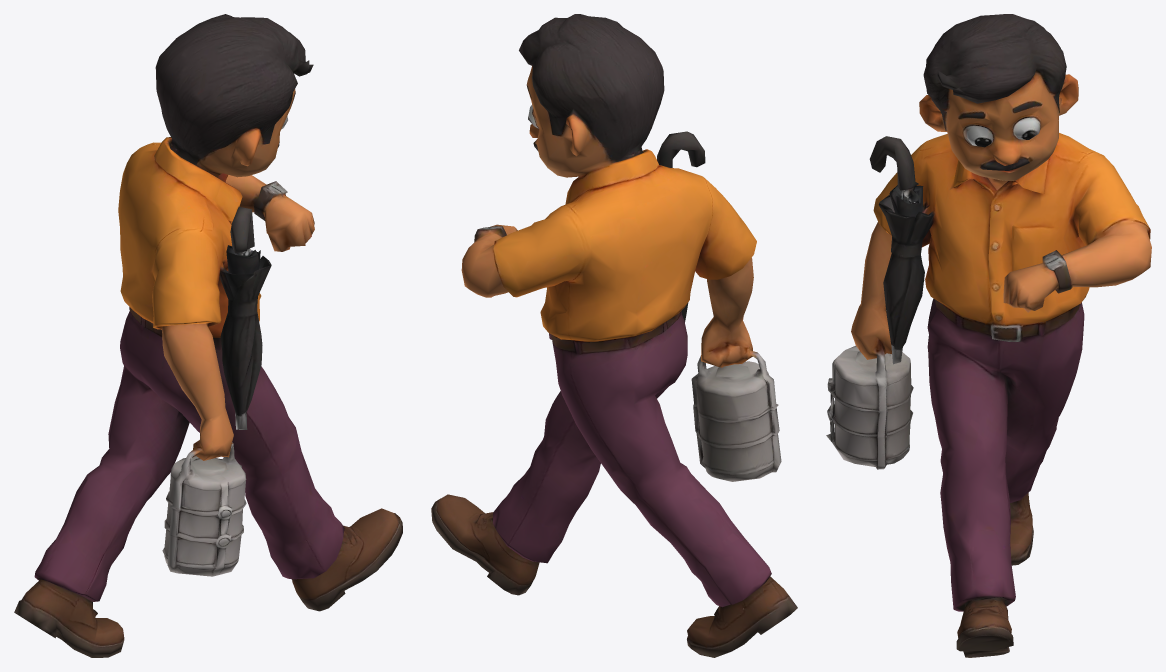
Rendered from pedestrian-office-goer.glb.
3 renders of one model, left to right at view 1: azimuth 30°, elevation 25°; view 2: azimuth 150°, elevation 25°; view 3: azimuth 270°, elevation 25°, orthographic. The views are drawn at different scales.
Parts seen in each view (by area): view 1: tripo_node_0e2514e3-a924-4827-8cc5-db9d8ac40031; view 2: tripo_node_0e2514e3-a924-4827-8cc5-db9d8ac40031; view 3: tripo_node_0e2514e3-a924-4827-8cc5-db9d8ac40031.
Part boxes in pixels (x1,y1,x2,y2): tripo_node_0e2514e3-a924-4827-8cc5-db9d8ac40031: (14,14,402,657); tripo_node_0e2514e3-a924-4827-8cc5-db9d8ac40031: (431,14,797,657); tripo_node_0e2514e3-a924-4827-8cc5-db9d8ac40031: (826,14,1151,657).
Size of the model in its own units: 0.6537 by 1 by 0.4911.
1 material, 1 textured.
